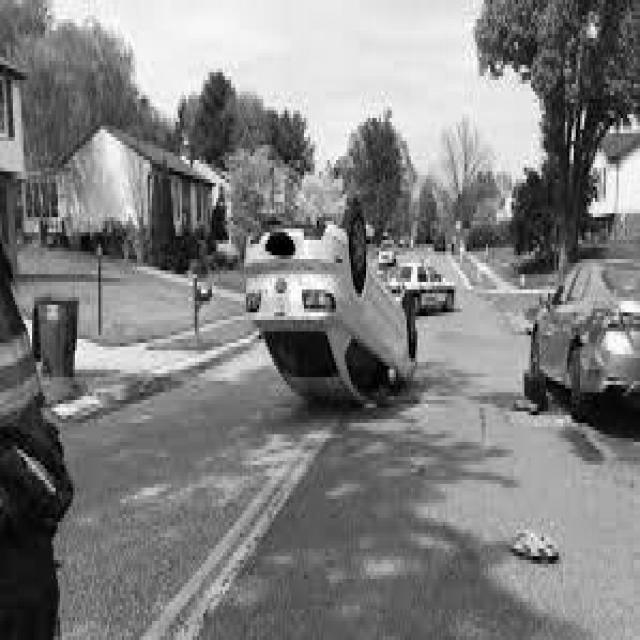severe: (239, 196, 425, 417)
